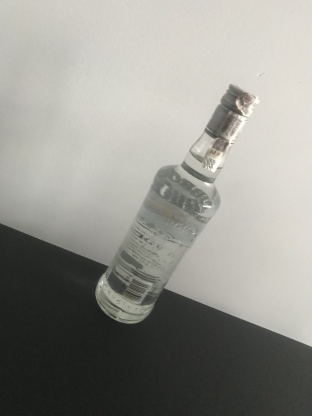nakretka: (202, 81, 261, 147)
